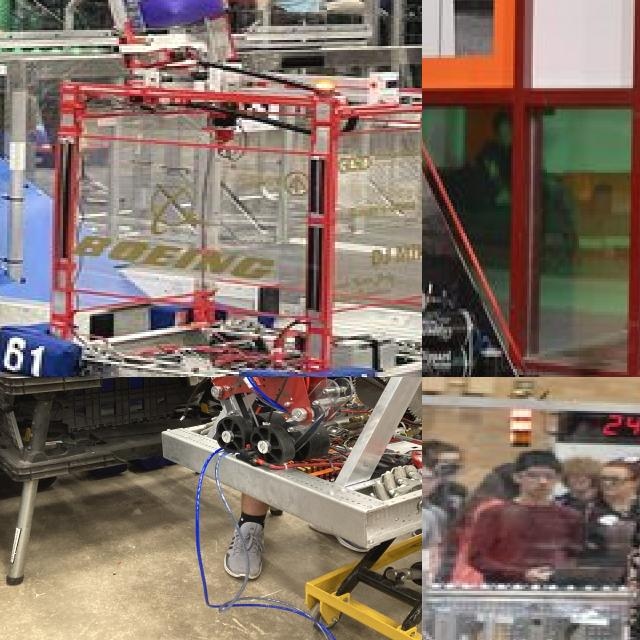FRC-Robots: (0, 0, 422, 377), (422, 0, 640, 377), (93, 377, 422, 552), (549, 452, 640, 640)
